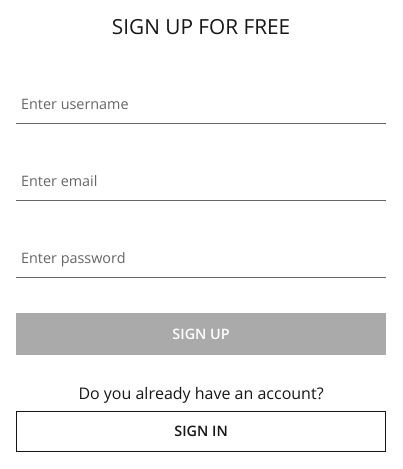
Test: <SignUp › contains a disabled button until credentials are valid
The width and height of the screenshot is (403, 469).
Type "a" into the field labelled "Enter username". click: x=201, y=104
box: [16,84,386,124]
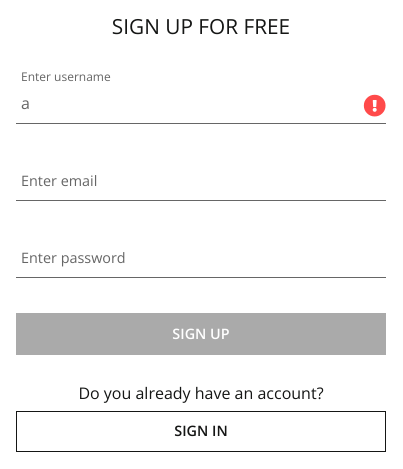
Type "johndoe" into the field labelled "Enter email". click: x=201, y=181
box: [16,161,386,201]
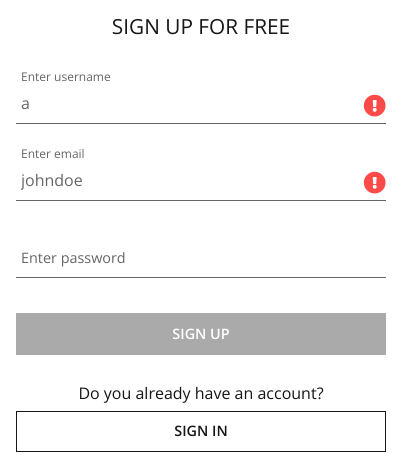
Type "a" into the password field labelled "Enter password". click: x=201, y=258
box: [16,238,386,278]
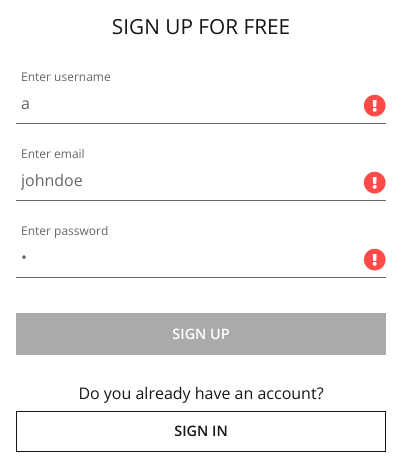
Expected: the submit button is disabled, [16,313,386,355]
Replace the text in the field labelled "Enter username" with "John Doe". click: x=201, y=104
box: [16,84,386,124]
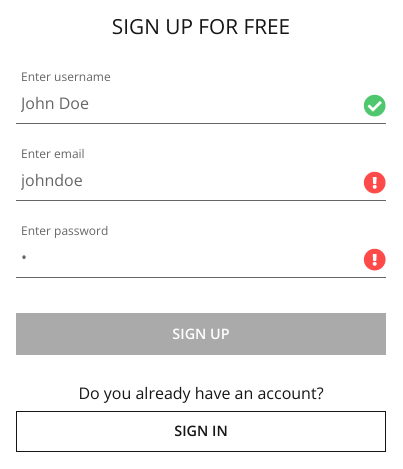
Replace the text in the field labelled "Enter email" with "johndoe@gmail.com". click: x=201, y=181
box: [16,161,386,201]
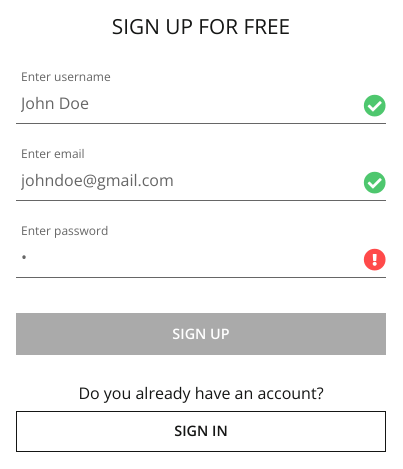
Type "John123$" into the password field labelled "Enter password". click: x=201, y=258
box: [16,238,386,278]
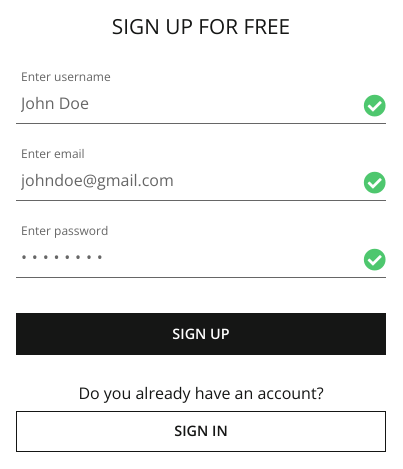
Expected: the submit button is enabled, [16,313,386,355]
